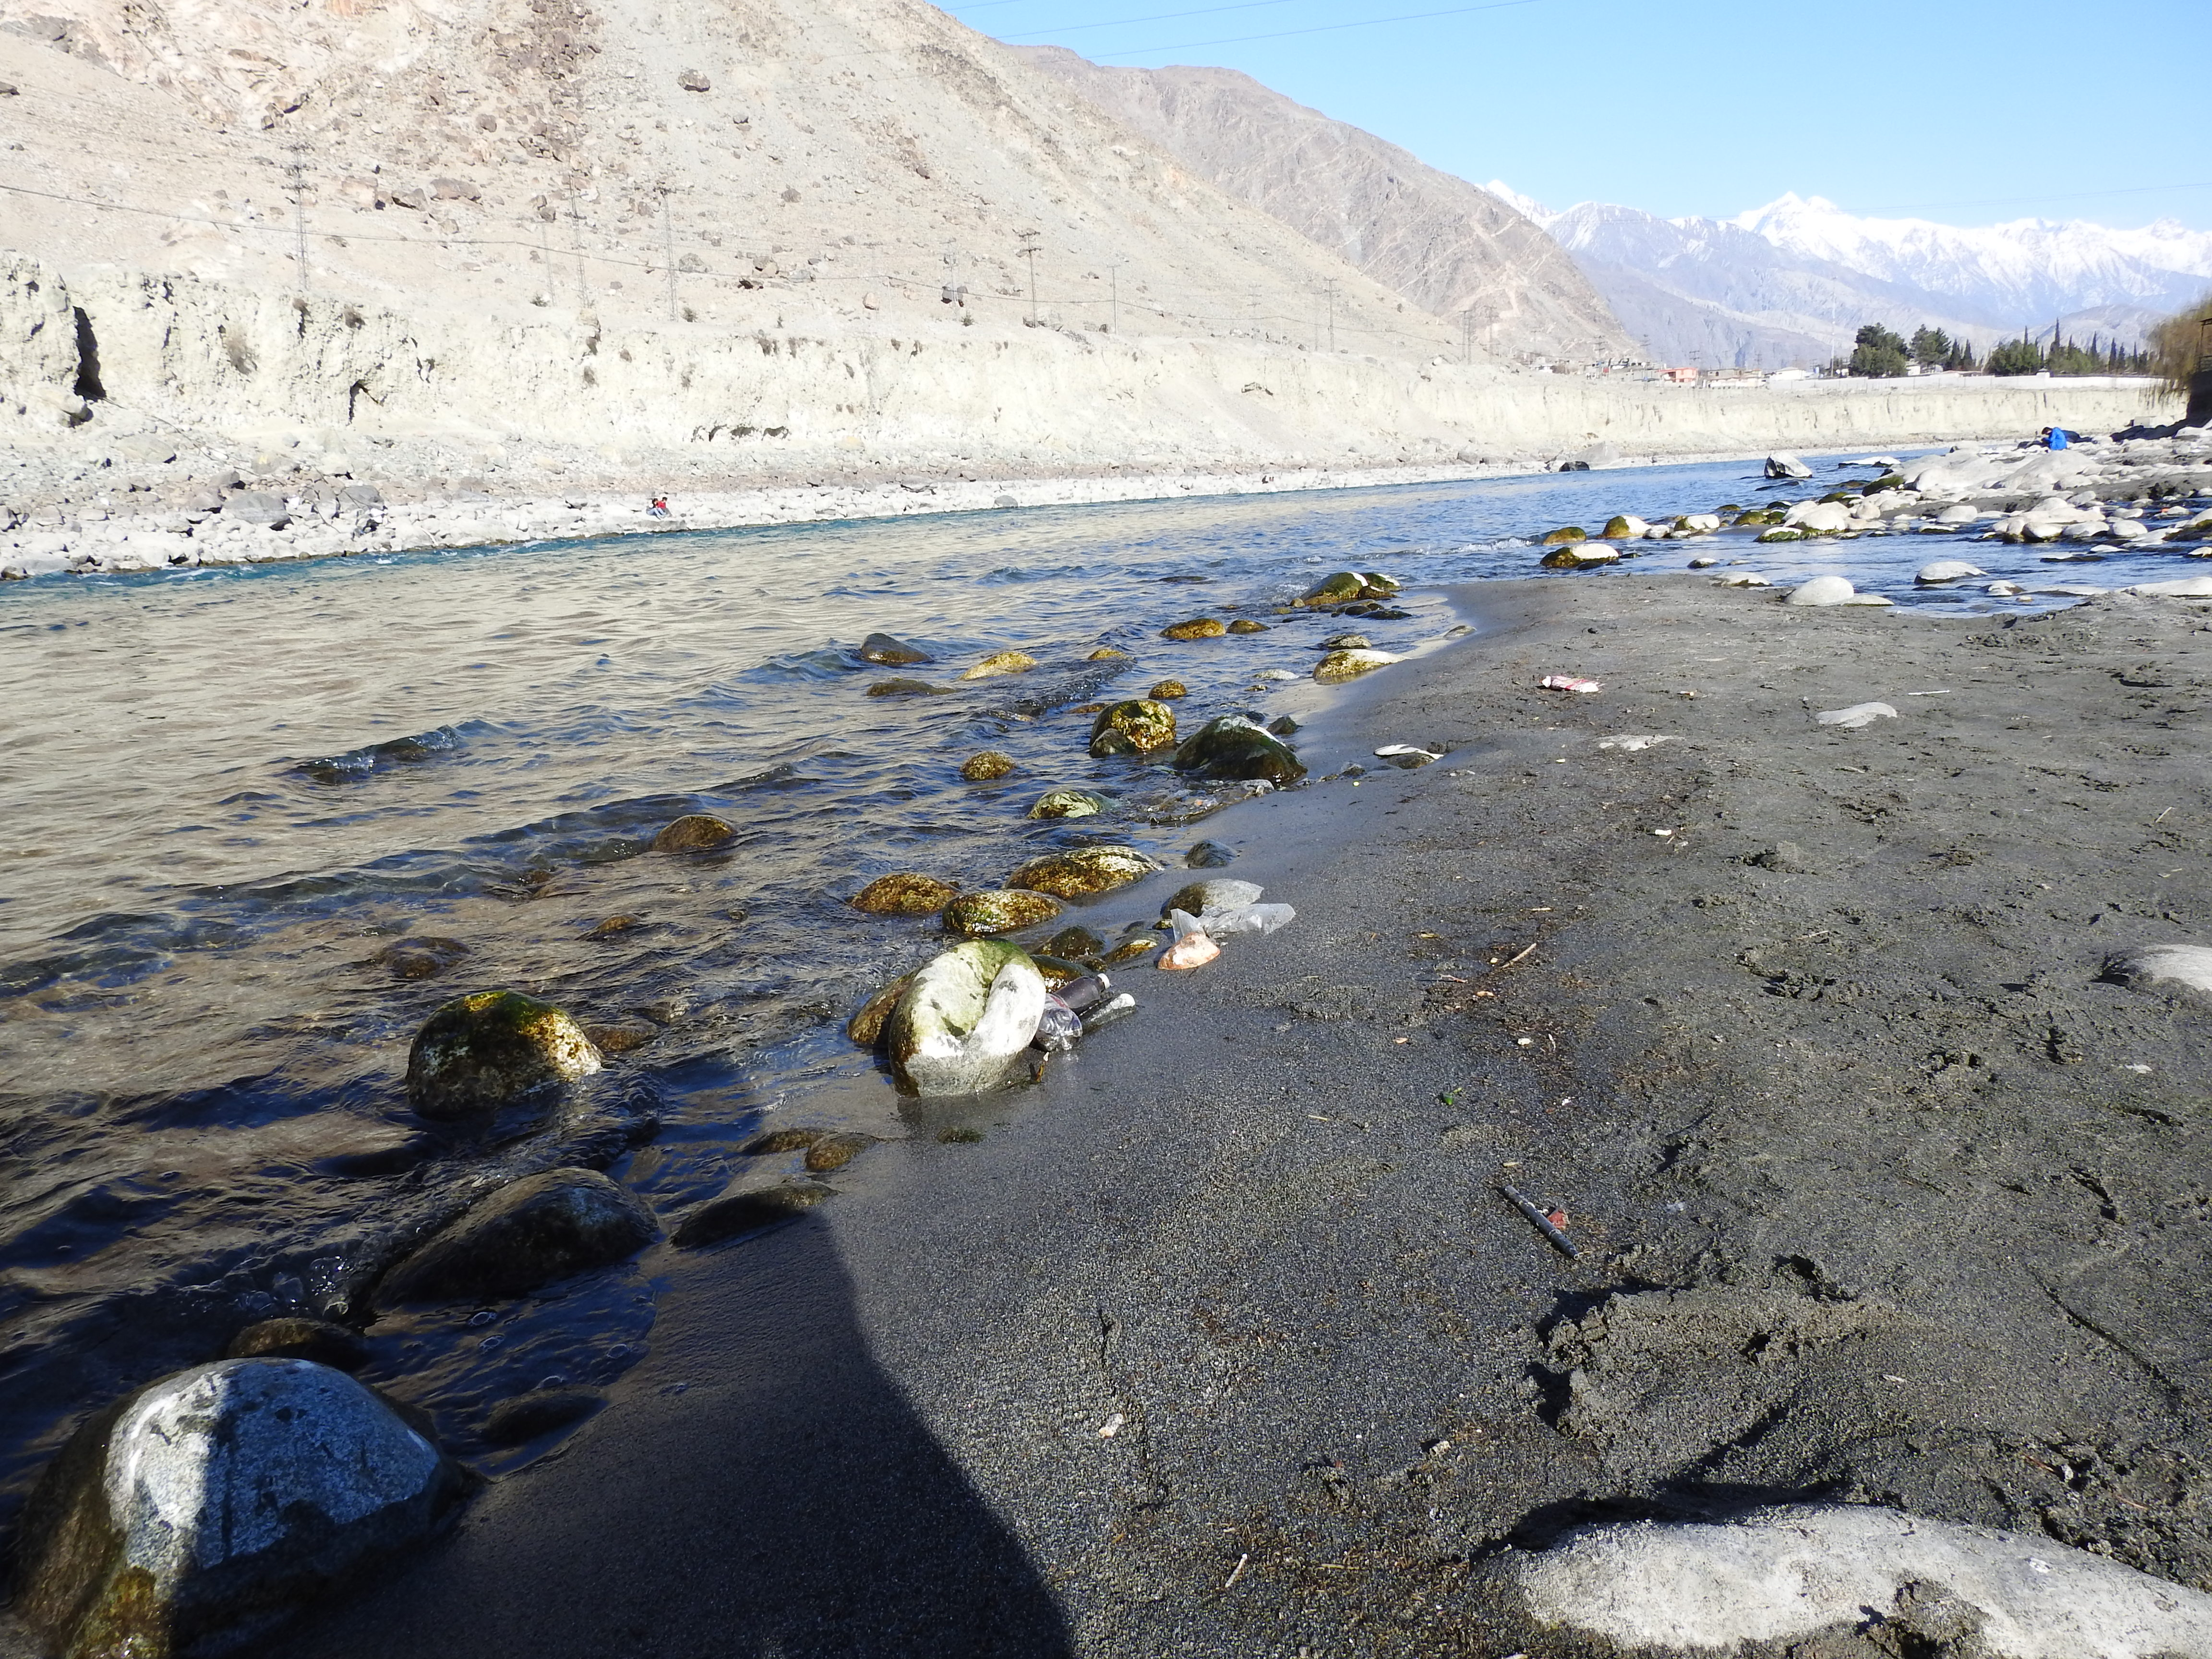Plastic Bottle: (1036, 992, 1082, 1051), (1055, 974, 1109, 1016)
